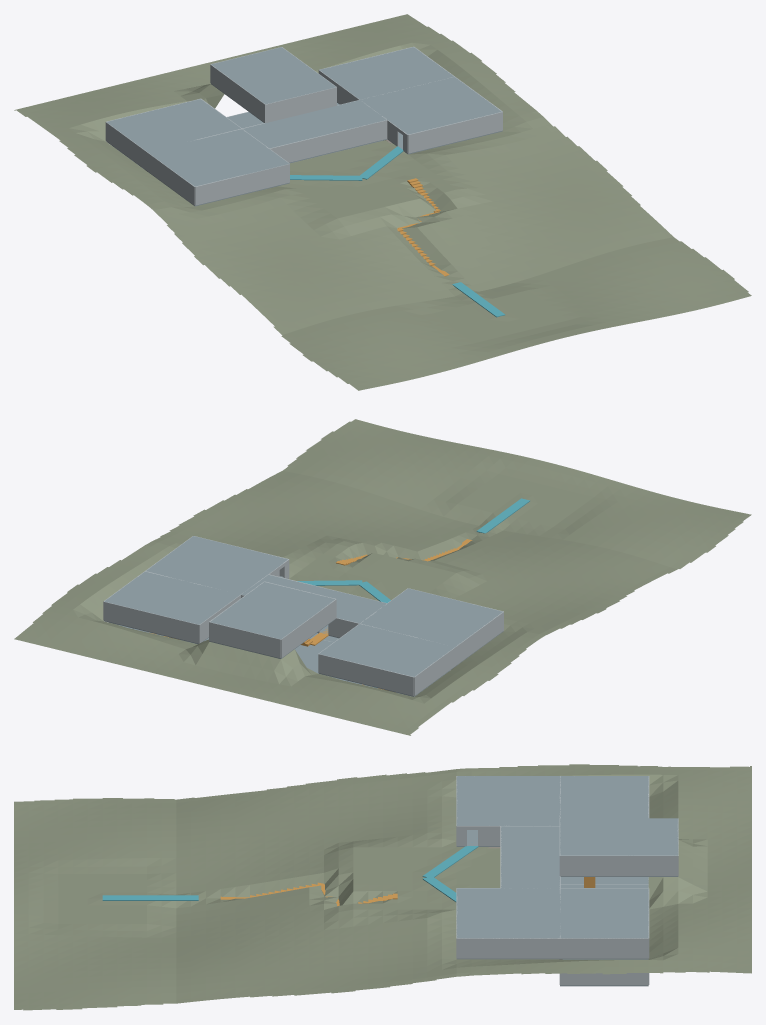
The model's file is closed-floors.glb.
3 renders of one model, top to bottom at view 1: azimuth 30°, elevation 25°; view 2: azimuth 150°, elevation 25°; view 3: azimuth 270°, elevation 25°, orthographic. The views are drawn at different scales.
Visible parts, largest first — view 1: Saved editor occupied-room terrain WLD-17, Ceiling cap west, Ceiling cap east, Ceiling cap director, Ceiling cap service, Ceiling cap magazine, Ceiling cap gallery, Wall gallery S, Wall east S, Wall west S, Wall director S, Wall director W (+2 smaller); view 2: Saved editor occupied-room terrain WLD-17, Ceiling cap west, Ceiling cap east, Ceiling cap service, Ceiling cap director, Ceiling cap magazine, Wall service N, Wall magazine N, Ceiling cap gallery, Wall director N, Wall director W, Wall west W (+2 smaller); view 3: Saved editor occupied-room terrain WLD-17, Ceiling cap east, Ceiling cap west, Ceiling cap service, Ceiling cap director, Ceiling cap magazine, Ceiling cap gallery, Wall director E, Wall east E, Wall service E, Wall plant E, route-01 support 0 (+3 smaller).
Part boxes in pixels (x1,y1,x2,y2): Saved editor occupied-room terrain WLD-17: [14, 14, 751, 390]; Ceiling cap west: [148, 129, 289, 186]; Ceiling cap east: [360, 77, 501, 134]; Ceiling cap director: [211, 47, 335, 104]; Ceiling cap service: [319, 47, 454, 99]; Ceiling cap magazine: [107, 99, 240, 151]; Ceiling cap gallery: [243, 100, 386, 148]; Wall gallery S: [269, 120, 387, 162]; Wall east S: [408, 112, 502, 153]; Wall west S: [195, 164, 289, 205]; Wall director S: [265, 87, 336, 122]; Wall director W: [210, 64, 265, 122]; Saved editor occupied-room terrain WLD-17: [14, 419, 751, 735]; Ceiling cap west: [360, 588, 502, 646]; Ceiling cap east: [146, 536, 287, 594]; Ceiling cap service: [104, 571, 240, 624]; Ceiling cap director: [210, 582, 335, 639]; Ceiling cap magazine: [319, 624, 454, 676]; Wall service N: [103, 601, 199, 643]; Wall magazine N: [318, 654, 413, 695]; Ceiling cap gallery: [241, 575, 386, 623]; Wall director N: [209, 622, 280, 658]; Wall director W: [281, 599, 336, 658]; Wall west W: [456, 611, 503, 665]; Saved editor occupied-room terrain WLD-17: [14, 764, 751, 1010]; Ceiling cap east: [456, 888, 559, 938]; Ceiling cap west: [456, 776, 559, 825]; Ceiling cap service: [560, 888, 648, 938]; Ceiling cap director: [560, 818, 678, 855]; Ceiling cap magazine: [560, 776, 648, 818]; Ceiling cap gallery: [501, 826, 559, 888]; Wall director E: [560, 855, 678, 876]; Wall east E: [456, 938, 559, 958]; Wall service E: [560, 938, 648, 958]; Wall plant E: [560, 973, 648, 985]; route-01 support 0: [102, 895, 198, 900].
Size of the model in its own units: 68 by 10.7 by 100.
